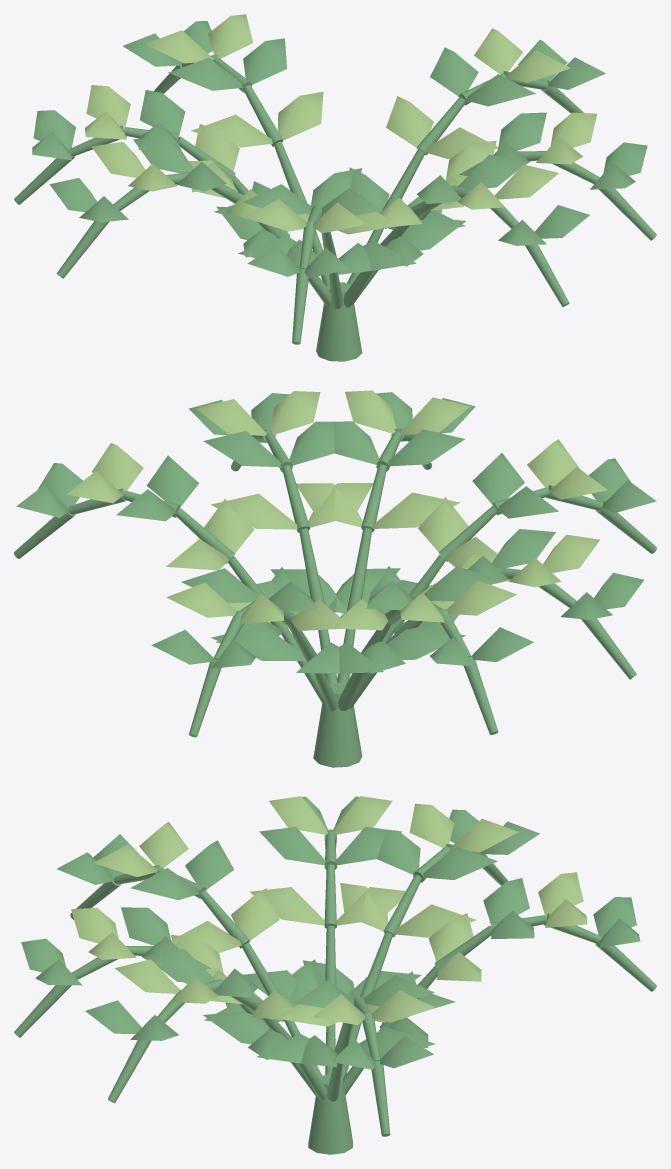
The model's file is plant-fern-clean.glb.
3 renders of one model, top to bottom at view 1: azimuth 30°, elevation 25°; view 2: azimuth 150°, elevation 25°; view 3: azimuth 270°, elevation 25°, orthographic. The views are drawn at different scales.
Parts seen in each view (by area): view 1: plant-fern-kit-clean-green, plant-fern-kit-clean-leaf; view 2: plant-fern-kit-clean-green, plant-fern-kit-clean-leaf; view 3: plant-fern-kit-clean-green, plant-fern-kit-clean-leaf.
Boxes of the visible parts, x1,y1,x2,y2 form: plant-fern-kit-clean-green: (14, 21, 656, 361); plant-fern-kit-clean-leaf: (85, 14, 597, 234); plant-fern-kit-clean-green: (14, 392, 656, 767); plant-fern-kit-clean-leaf: (66, 390, 607, 630); plant-fern-kit-clean-green: (14, 796, 656, 1154); plant-fern-kit-clean-leaf: (71, 796, 587, 1026).
Bounding box in the file's own units: 1.8 × 0.7658 × 1.78.
